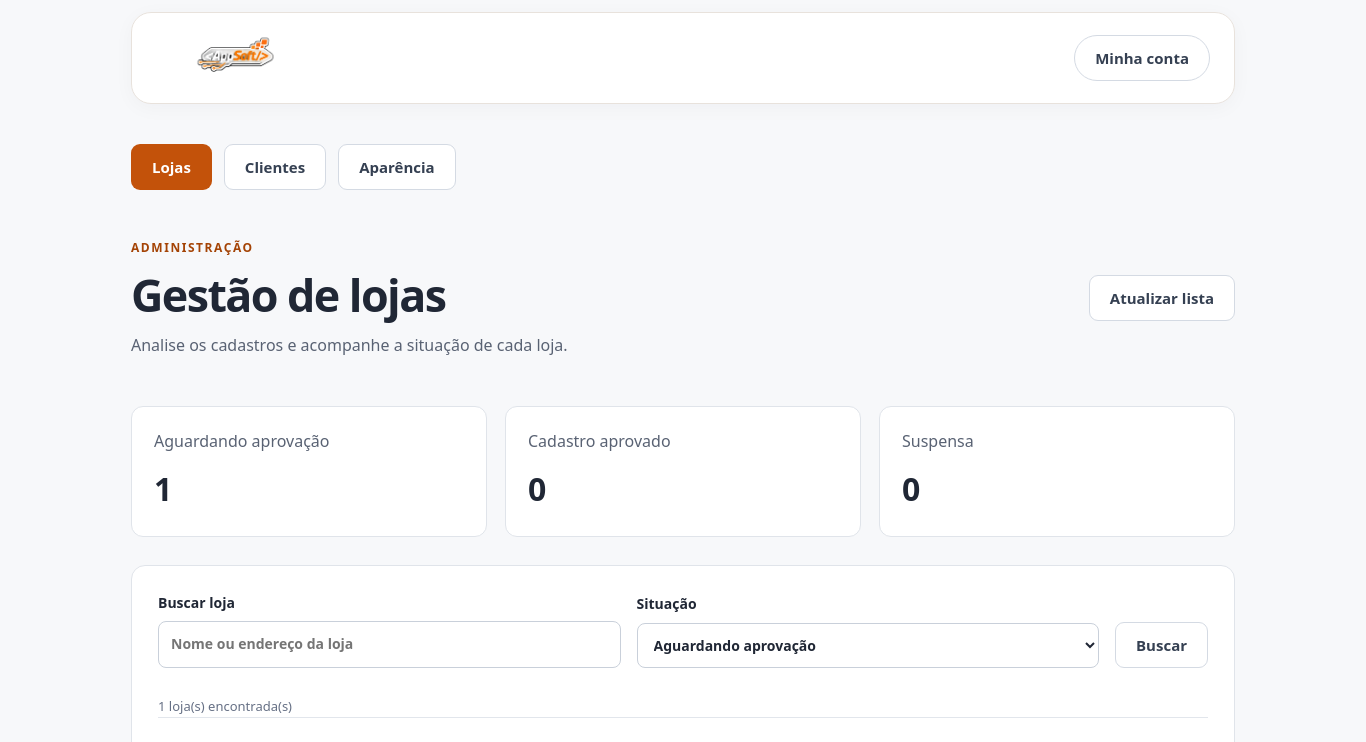
Scenario: oculta os clientes quando o servidor recusa acesso
The width and height of the screenshot is (1366, 742).
Click the button "Clientes": (275, 167) [224,144,326,190]
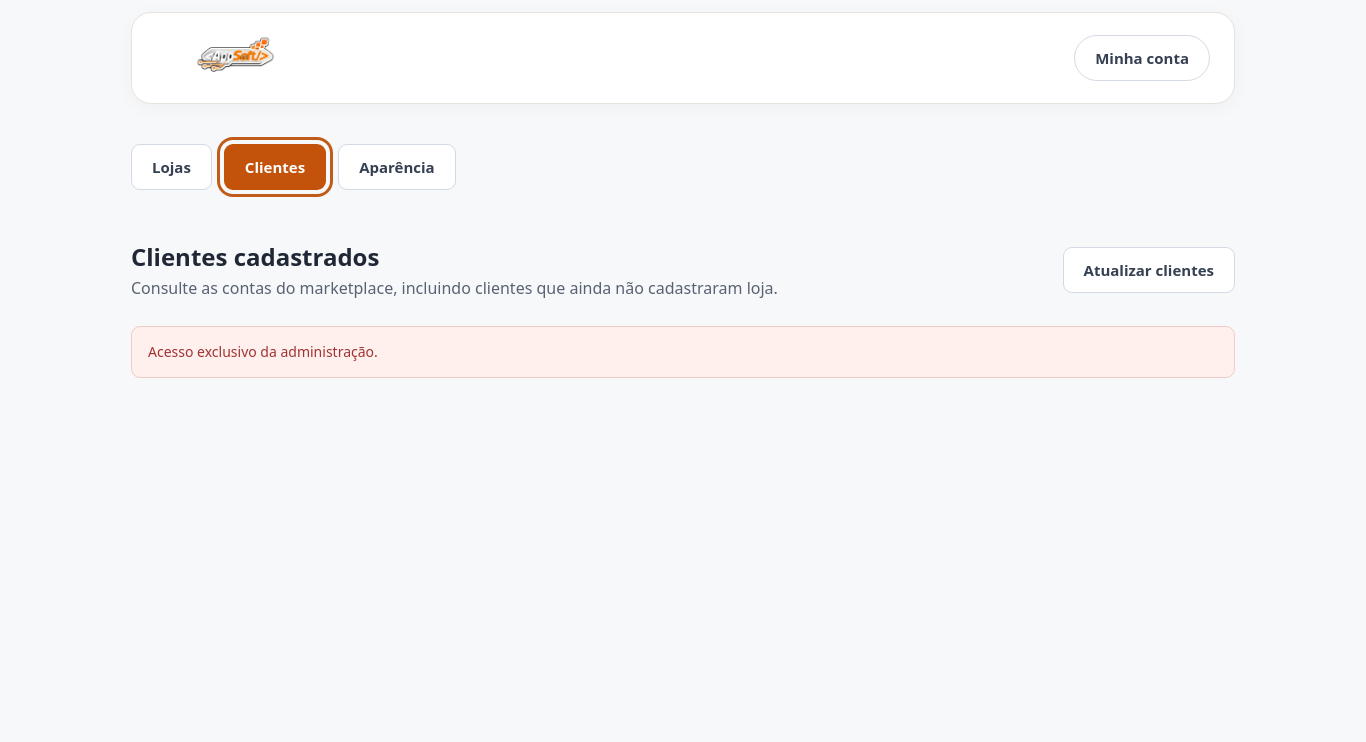
Expected: the message shows "Acesso exclusivo", [148,342,378,361]
